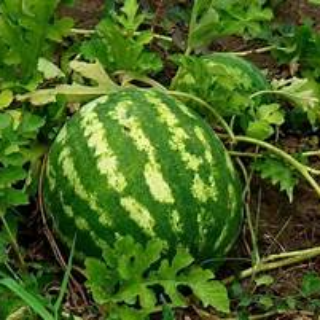dua_hau: (39, 81, 242, 285)
